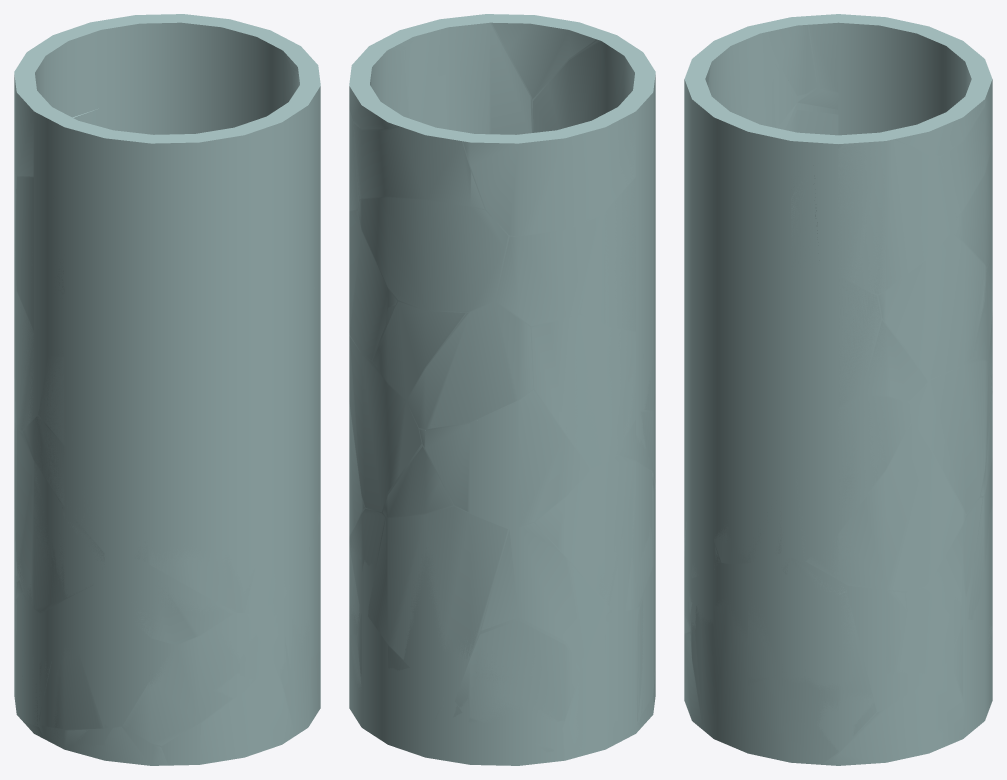
File: Glass_Shatter.fbx
The picture shows the model from 3 angles, left to right: view 1: azimuth 30°, elevation 25°; view 2: azimuth 150°, elevation 25°; view 3: azimuth 270°, elevation 25°; orthographic projection.
Visible parts, largest first — view 1: pCylinder7, pCylinder7_cell.006, pCylinder7_cell.067, pCylinder7_cell.049, pCylinder7_cell.032, pCylinder7_cell.048, pCylinder7_cell.024, pCylinder7_cell.063, pCylinder7_cell.029, pCylinder7_cell.064, pCylinder7_cell.023, pCylinder7_cell.012 (+7 smaller); view 2: pCylinder7, pCylinder7_cell.043, pCylinder7_cell.011, pCylinder7_cell.068, pCylinder7_cell.001, pCylinder7_cell.023, pCylinder7_cell.033, pCylinder7_cell.049, pCylinder7_cell.050, pCylinder7_cell.076, pCylinder7_cell.042, pCylinder7_cell.058 (+15 smaller); view 3: pCylinder7, pCylinder7_cell.048, pCylinder7_cell, pCylinder7_cell.020, pCylinder7_cell.046, pCylinder7_cell.057, pCylinder7_cell.074, pCylinder7_cell.004, pCylinder7_cell.041, pCylinder7_cell.058, pCylinder7_cell.036, pCylinder7_cell.038 (+16 smaller).
Boxes of the visible parts, <box> form: pCylinder7: <box>14,14,320,765</box>; pCylinder7_cell.006: <box>122,625,273,745</box>; pCylinder7_cell.067: <box>199,664,294,764</box>; pCylinder7_cell.049: <box>14,425,92,613</box>; pCylinder7_cell.032: <box>142,540,255,613</box>; pCylinder7_cell.048: <box>277,618,320,735</box>; pCylinder7_cell.024: <box>39,646,173,729</box>; pCylinder7_cell.063: <box>135,581,232,644</box>; pCylinder7_cell.029: <box>15,177,64,330</box>; pCylinder7_cell.064: <box>41,725,167,765</box>; pCylinder7_cell.023: <box>14,255,33,430</box>; pCylinder7_cell.012: <box>23,416,140,559</box>; pCylinder7: <box>349,14,655,765</box>; pCylinder7_cell.043: <box>368,506,507,659</box>; pCylinder7_cell.011: <box>463,111,635,236</box>; pCylinder7_cell.068: <box>358,197,508,312</box>; pCylinder7_cell.001: <box>404,14,532,134</box>; pCylinder7_cell.023: <box>531,314,635,468</box>; pCylinder7_cell.033: <box>406,302,533,429</box>; pCylinder7_cell.049: <box>535,456,653,611</box>; pCylinder7_cell.050: <box>454,620,580,722</box>; pCylinder7_cell.076: <box>419,390,590,526</box>; pCylinder7_cell.042: <box>481,523,605,667</box>; pCylinder7_cell.058: <box>353,115,484,208</box>; pCylinder7: <box>684,14,992,764</box>; pCylinder7_cell.048: <box>690,589,876,764</box>; pCylinder7_cell: <box>805,423,965,591</box>; pCylinder7_cell.020: <box>837,139,956,294</box>; pCylinder7_cell.046: <box>878,233,986,378</box>; pCylinder7_cell.057: <box>910,359,991,513</box>; pCylinder7_cell.074: <box>824,660,965,765</box>; pCylinder7_cell.004: <box>685,28,771,126</box>; pCylinder7_cell.041: <box>783,395,911,557</box>; pCylinder7_cell.058: <box>941,62,992,216</box>; pCylinder7_cell.036: <box>863,320,927,401</box>; pCylinder7_cell.038: <box>905,588,954,674</box>.
Size of the model in its own units: 55.54 by 124 by 55.54.
